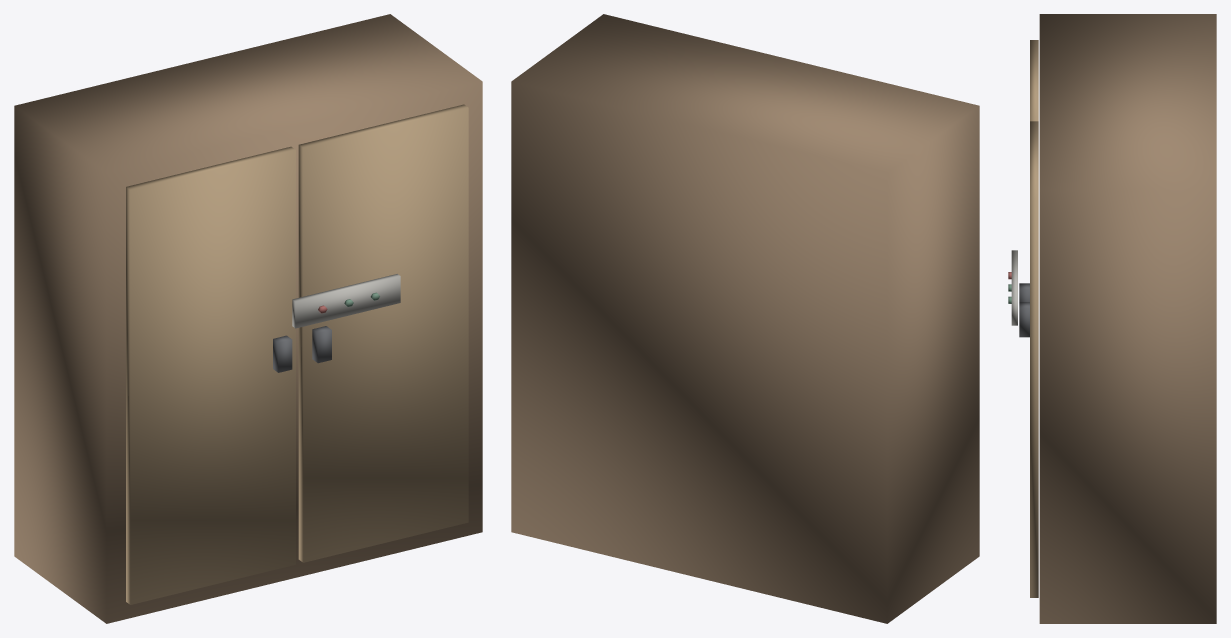
File: kitchen_wall_cabinet__wide.glb
The picture shows the model from 3 angles, left to right: view 1: azimuth 30°, elevation 25°; view 2: azimuth 150°, elevation 25°; view 3: azimuth 270°, elevation 25°; orthographic projection. The views are drawn at different scales.
Visible parts, largest first — view 1: world; view 2: world; view 3: world.
Boxes of the visible parts, bbox=[...] form: world: bbox=[14, 14, 482, 623]; world: bbox=[511, 14, 979, 623]; world: bbox=[1008, 14, 1216, 623].
Bounding box in the file's own units: 1.18 × 1.35 × 0.5885.
